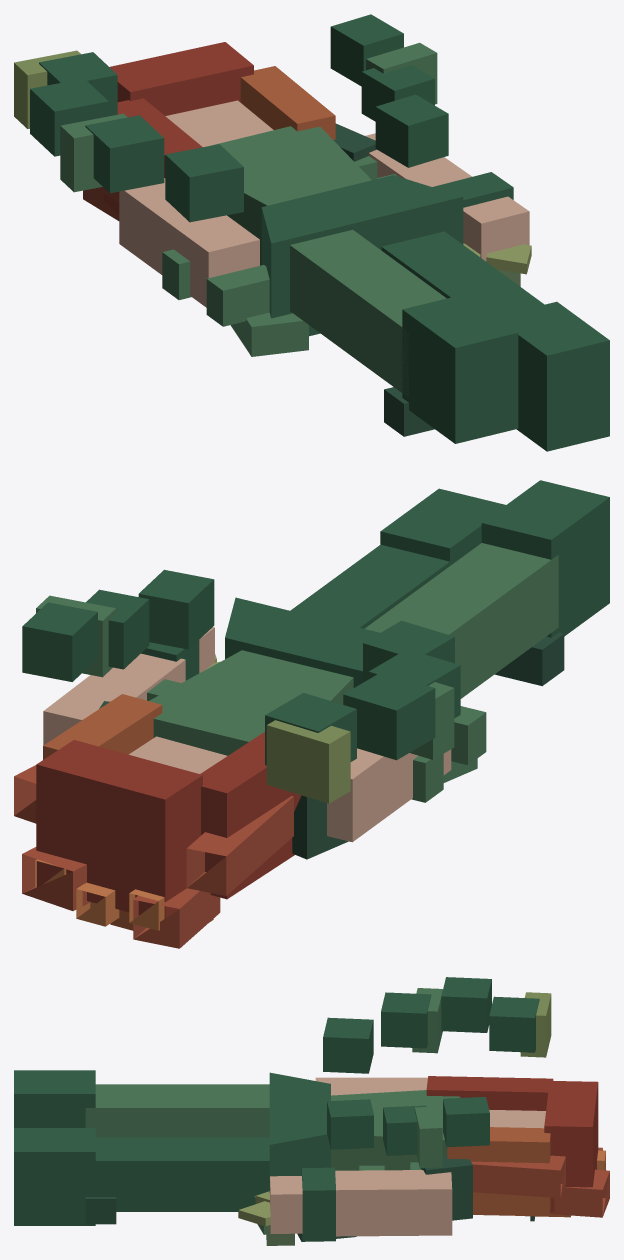
The model's file is gotham_poison_ivy.glb.
3 views of the same model, one above another, from view 1: azimuth 30°, elevation 25°; view 2: azimuth 150°, elevation 25°; view 3: azimuth 270°, elevation 25° (orthographic). The views are drawn at different scales.
Visible parts, largest first — view 1: Left boot, Left leg, Right boot, Hip foliage, Left arm, Torso, Hair crown, Right leg, Vine section 0, Vine section 1, Right vine section 0, Hair right (+18 smaller); view 2: Hair crown, Left leg, Torso, Left boot, Hip foliage, Right leg, Hair left, Vine section 2, Vine leaf 3, Right boot, Ivy auburn swept lock, Left arm (+21 smaller); view 3: Right leg, Left leg, Right boot, Right arm, Hip foliage, Hair crown, Left boot, Hair right, Torso, Hair left, Ivy auburn swept lock.001, Vine section 0 (+18 smaller).
Boxes of the visible parts, bbox=[...] form: Left boot: bbox=[402, 294, 518, 443]; Left leg: bbox=[290, 229, 446, 397]; Right boot: bbox=[496, 301, 609, 451]; Hip foliage: bbox=[261, 175, 463, 336]; Left arm: bbox=[119, 178, 259, 307]; Torso: bbox=[210, 126, 371, 265]; Hair crown: bbox=[109, 42, 253, 115]; Right leg: bbox=[381, 231, 544, 316]; Vine section 0: bbox=[165, 144, 243, 222]; Vine section 1: bbox=[85, 115, 164, 193]; Right vine section 0: bbox=[375, 94, 448, 167]; Hair right: bbox=[240, 66, 335, 139]; Hair crown: bbox=[36, 740, 202, 918]; Left leg: bbox=[364, 543, 558, 698]; Torso: bbox=[149, 650, 353, 755]; Left boot: bbox=[481, 480, 609, 637]; Hip foliage: bbox=[225, 597, 379, 687]; Right leg: bbox=[290, 544, 457, 628]; Hair left: bbox=[200, 732, 301, 899]; Vine section 2: bbox=[343, 672, 435, 760]; Vine leaf 3: bbox=[266, 720, 350, 803]; Right boot: bbox=[380, 488, 505, 565]; Ivy auburn swept lock: bbox=[186, 796, 293, 895]; Left arm: bbox=[327, 748, 451, 842]; Right leg: bbox=[87, 1137, 269, 1211]; Left leg: bbox=[85, 1084, 269, 1137]; Right boot: bbox=[14, 1128, 95, 1225]; Right arm: bbox=[335, 1170, 452, 1236]; Hip foliage: bbox=[269, 1072, 330, 1193]; Hair crown: bbox=[544, 1081, 598, 1211]; Left boot: bbox=[14, 1070, 95, 1127]; Hair right: bbox=[447, 1127, 550, 1216]; Torso: bbox=[331, 1090, 460, 1170]; Hair left: bbox=[426, 1076, 553, 1110]; Ivy auburn swept lock.001: bbox=[471, 1155, 565, 1198]; Vine section 0: bbox=[323, 1017, 373, 1073].
Bounding box in the file's own units: 1.28 × 0.69 × 2.33.
